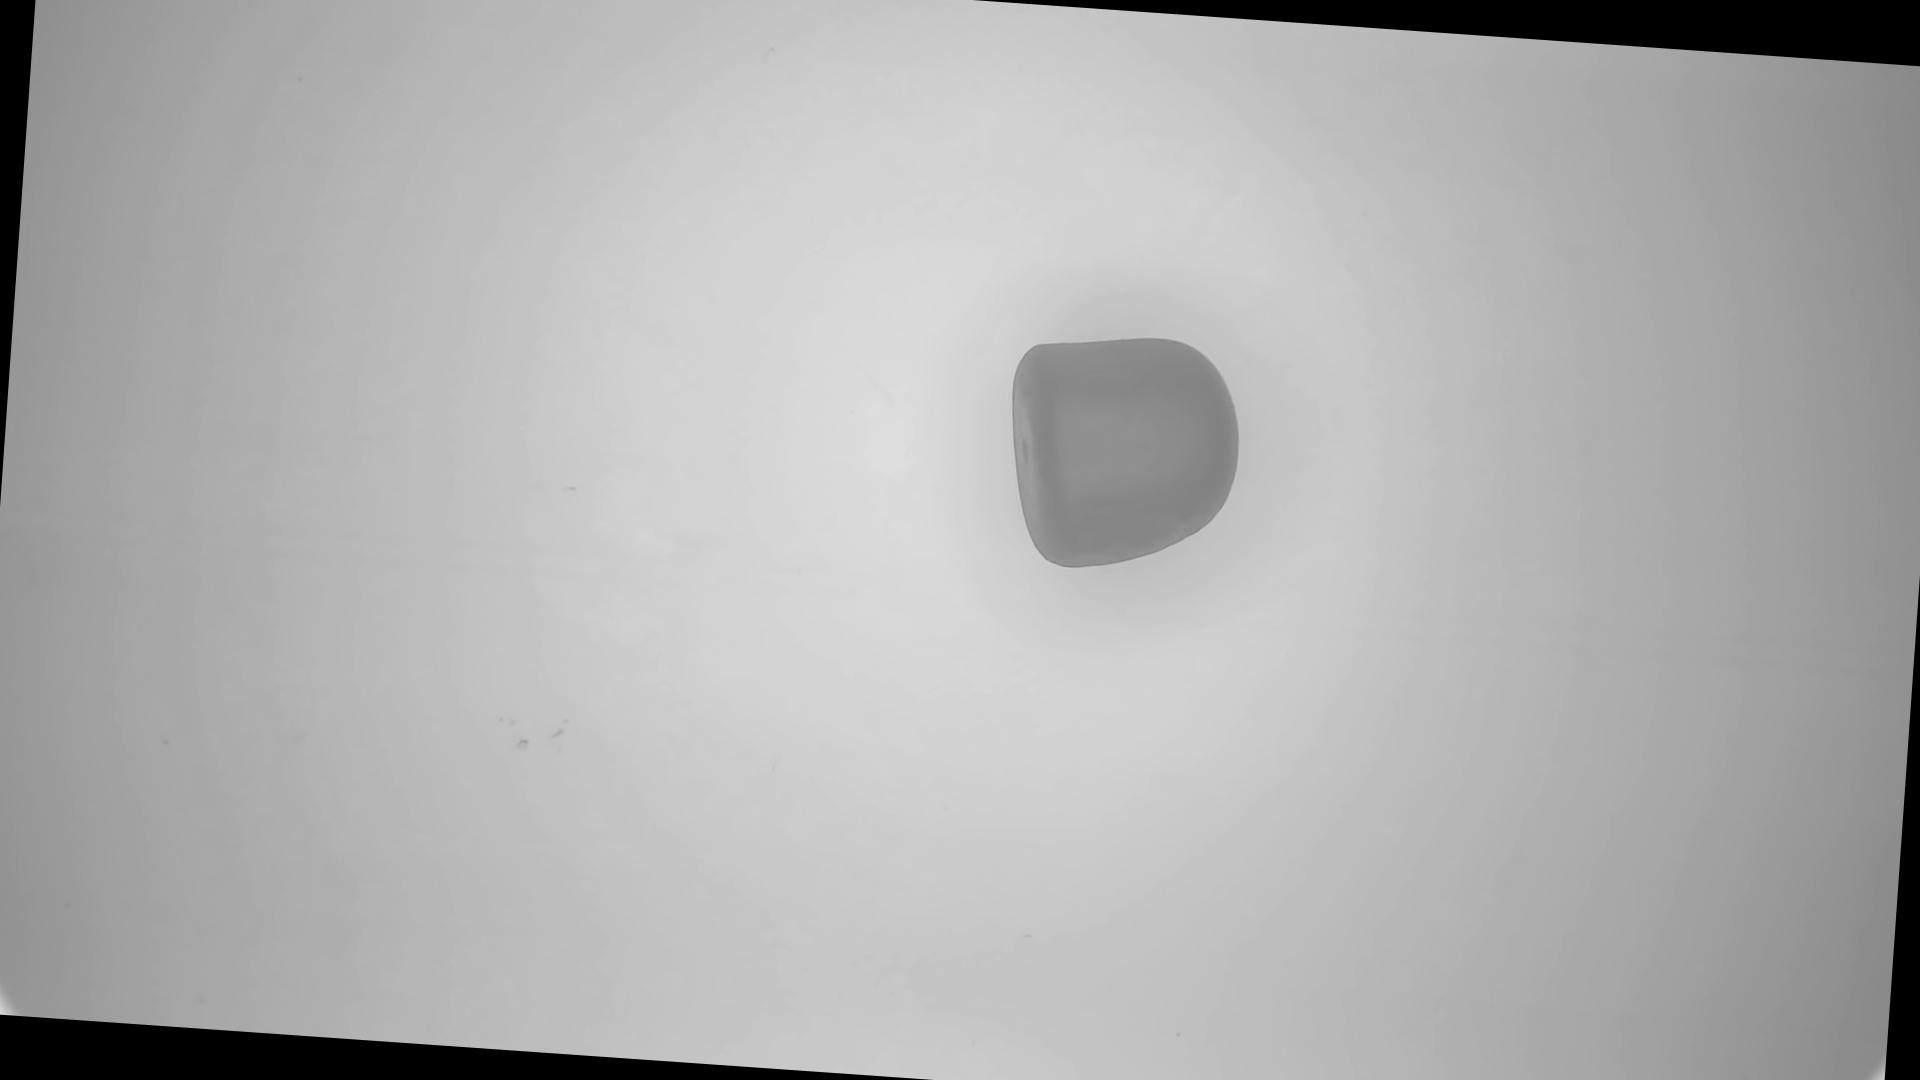normal: (1000, 326, 1251, 580)
